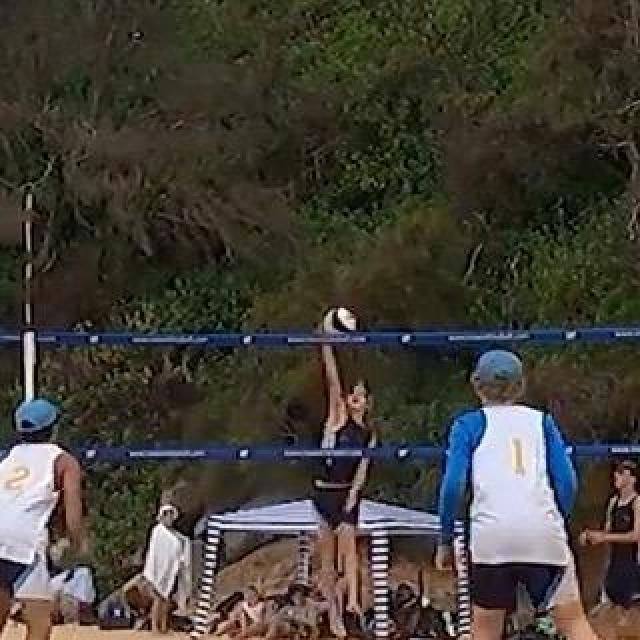volleyball: (322, 307, 356, 341)
